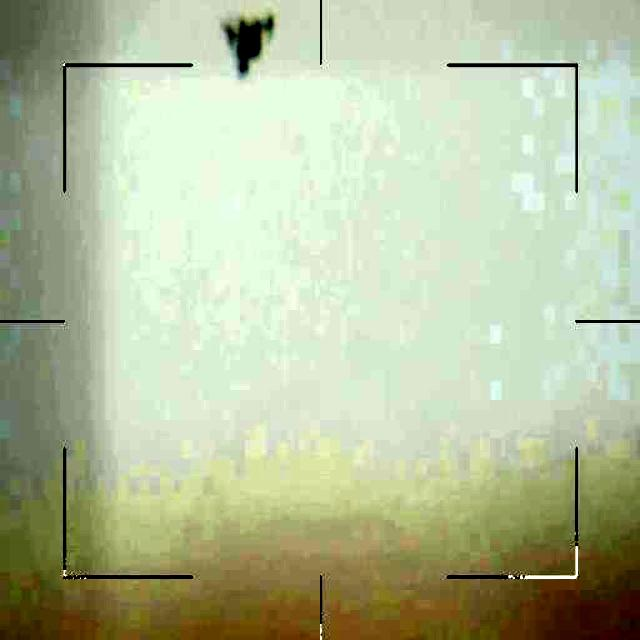bird: (216, 5, 291, 76)
